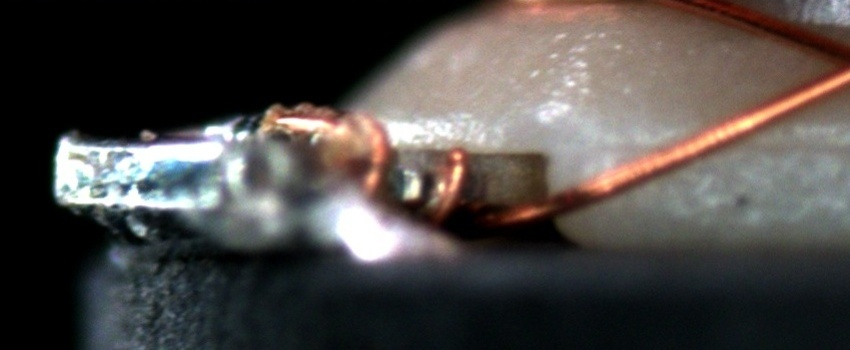CL: (806, 26, 849, 96)
DL: (607, 112, 849, 176)
TE: (250, 101, 477, 219)
